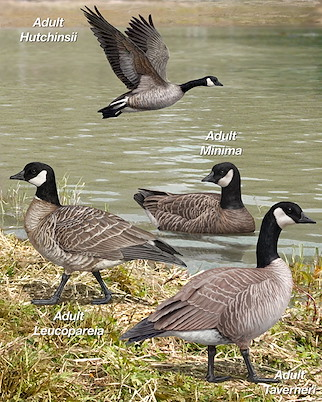goose: (113, 198, 318, 385), (7, 159, 182, 309), (90, 38, 230, 125), (133, 159, 259, 236)
